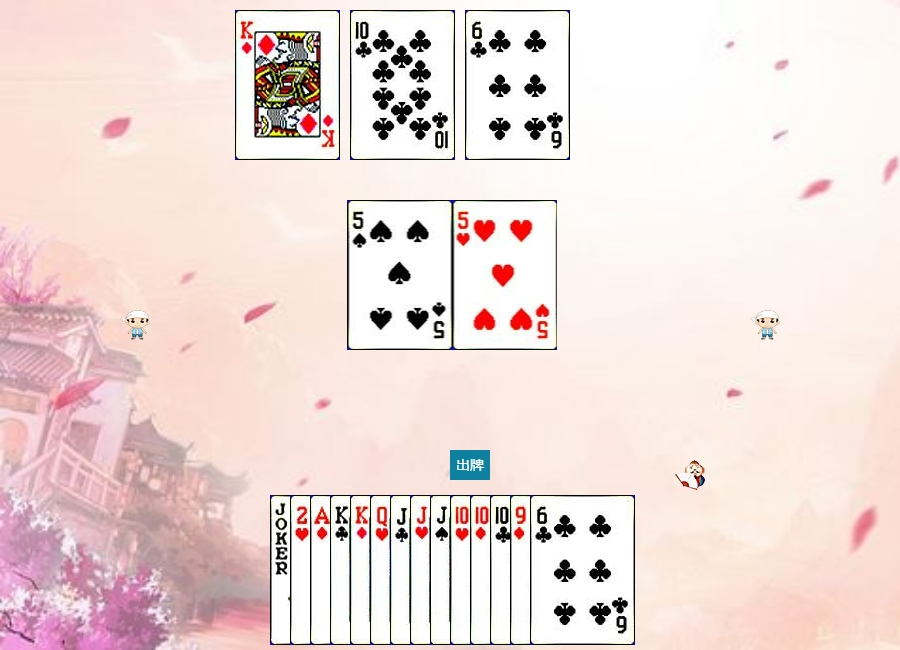10~1: (470, 495, 575, 645)
10~2: (350, 10, 455, 160), (490, 495, 595, 645)
10~3: (450, 495, 555, 645)
11~2: (390, 495, 495, 645)
11~3: (410, 495, 515, 645)
11~4: (430, 495, 535, 645)
12~3: (370, 495, 475, 645)
13~1: (235, 10, 340, 160), (350, 495, 455, 645)
13~2: (330, 495, 435, 645)
14~1: (310, 495, 415, 645)
15~3: (290, 495, 395, 645)
17~3: (270, 495, 375, 645)
5~3: (453, 200, 558, 350)
5~4: (348, 200, 453, 350)
6~2: (465, 10, 570, 160), (530, 495, 635, 645)
9~1: (510, 495, 615, 645)
